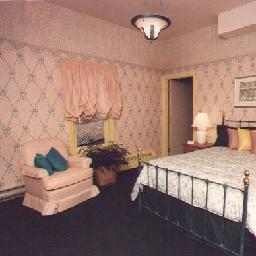Cama: (131, 123, 254, 228)
Matera: (91, 144, 125, 190)
